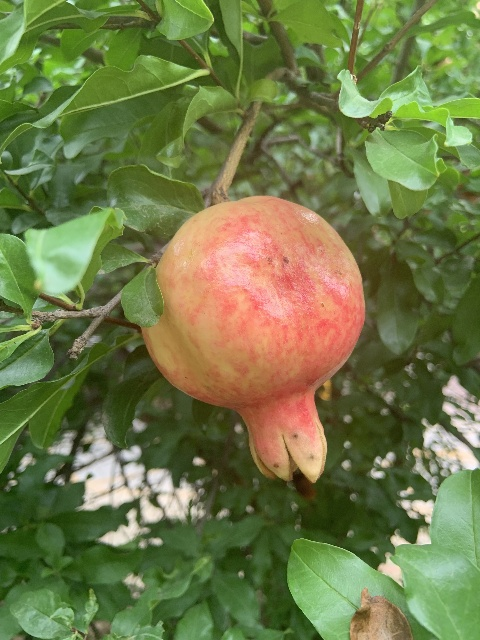ripe: (140, 195, 366, 482)
